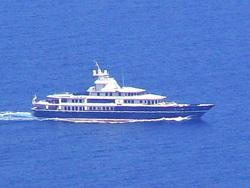yacht: (31, 60, 218, 120)
